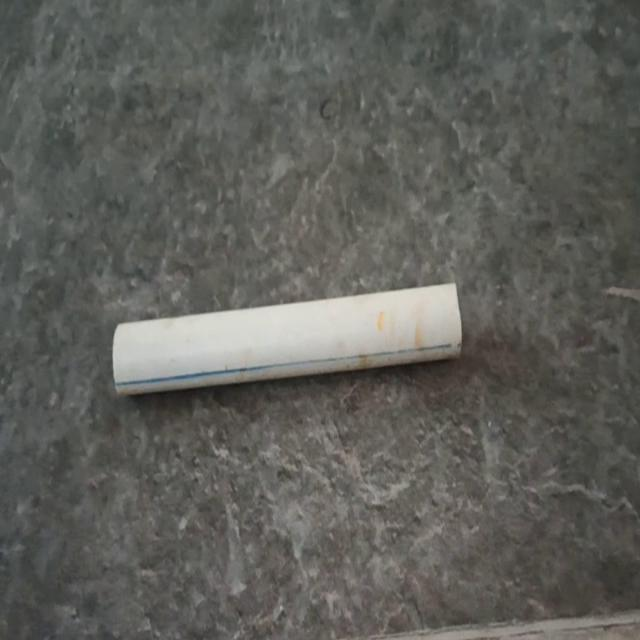Cube: (111, 279, 463, 397)
